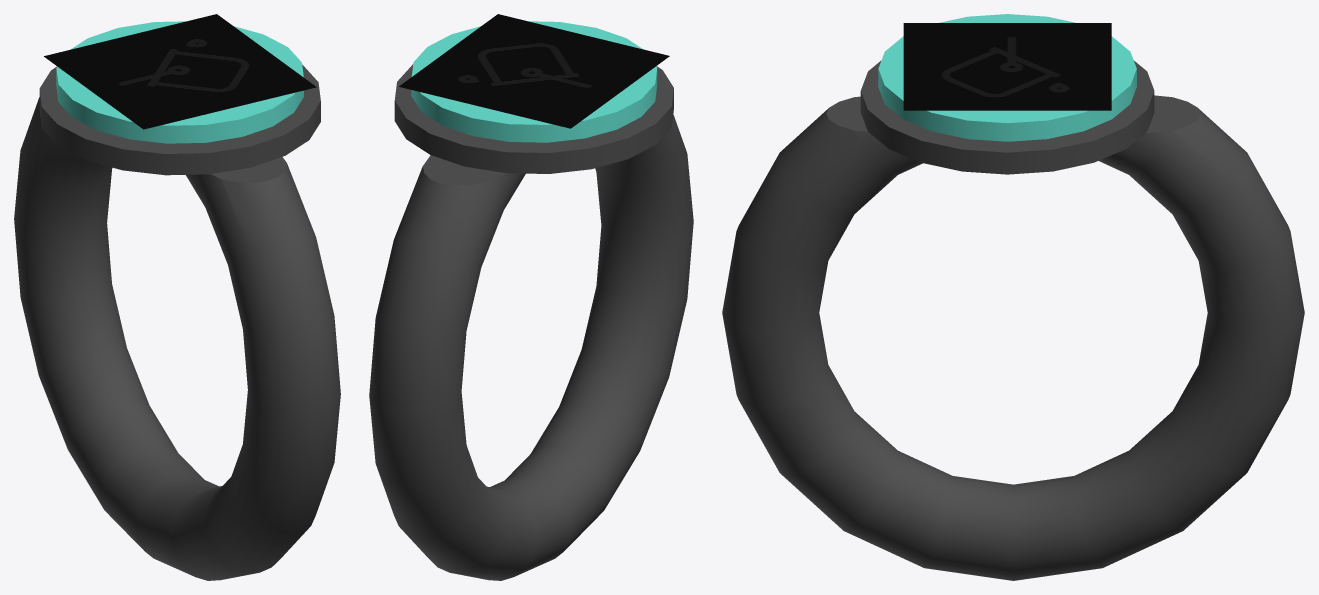
The model's file is Blocks-Buttons-13-unity-test-tool.fbx.
3 views of the same model, side by side, from view 1: azimuth 30°, elevation 25°; view 2: azimuth 150°, elevation 25°; view 3: azimuth 270°, elevation 25° (orthographic). The views are drawn at different scales.
Parts seen in each view (by area): view 1: pasted__pTorus4, pPlane21, pasted__pCylinder7, pasted__pCylinder6; view 2: pasted__pTorus4, pPlane21, pasted__pCylinder7, pasted__pCylinder6; view 3: pasted__pTorus4, pPlane21, pasted__pCylinder7, pasted__pCylinder6.
Part boxes in pixels (left/top/right/bottom): pasted__pTorus4: left=14, top=97, right=340, bottom=580; pPlane21: left=44, top=14, right=316, bottom=129; pasted__pCylinder7: left=39, top=65, right=320, bottom=175; pasted__pCylinder6: left=56, top=21, right=303, bottom=143; pasted__pTorus4: left=369, top=114, right=693, bottom=580; pPlane21: left=399, top=14, right=669, bottom=128; pasted__pCylinder7: left=394, top=64, right=673, bottom=173; pasted__pCylinder6: left=411, top=21, right=657, bottom=142; pasted__pTorus4: left=722, top=95, right=1304, bottom=580; pPlane21: left=903, top=23, right=1111, bottom=110; pasted__pCylinder7: left=860, top=61, right=1154, bottom=174; pasted__pCylinder6: left=878, top=14, right=1136, bottom=141.
Size of the model in its own units: 1.14 by 2.19 by 2.27.
